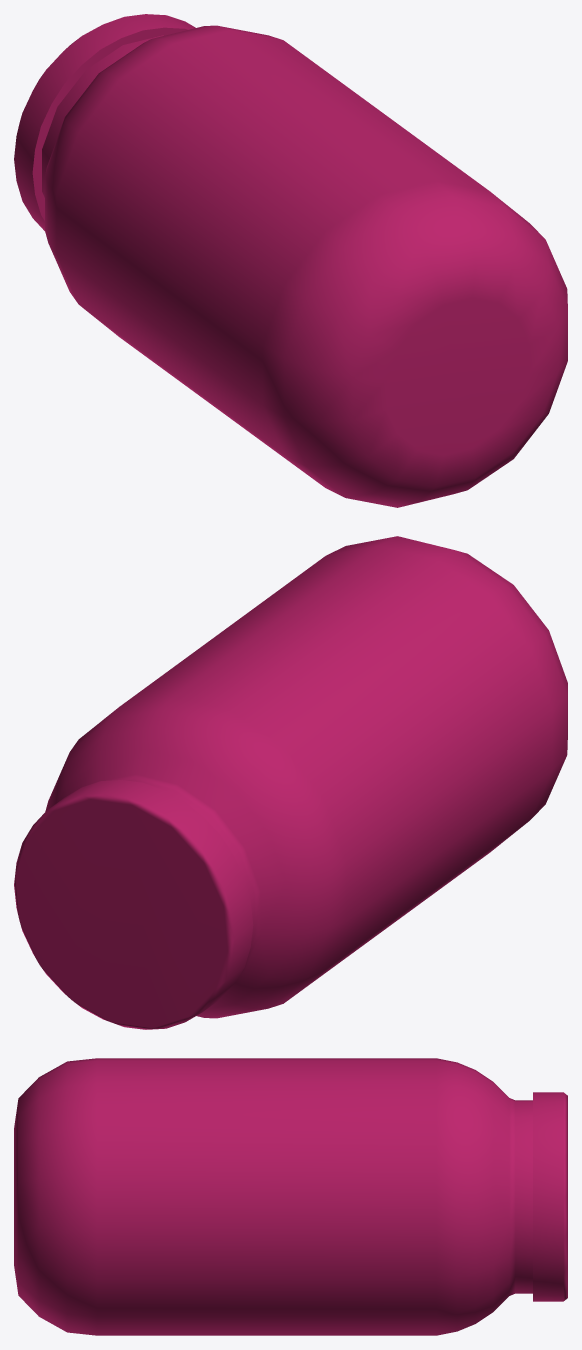
The model's file is SM_Dishes_02.fbx.
3 renders of one model, top to bottom at view 1: azimuth 30°, elevation 25°; view 2: azimuth 150°, elevation 25°; view 3: azimuth 270°, elevation 25°, orthographic. The views are drawn at different scales.
Parts seen in each view (by area): view 1: SM_Dishes_02; view 2: SM_Dishes_02; view 3: SM_Dishes_02.
Part boxes in pixels (box(x1,y1,x2,y2)): SM_Dishes_02: box(14, 14, 567, 507); SM_Dishes_02: box(14, 536, 567, 1029); SM_Dishes_02: box(14, 1058, 567, 1335).
Bounding box in the file's own units: 11.53 × 11.53 × 23.2.
